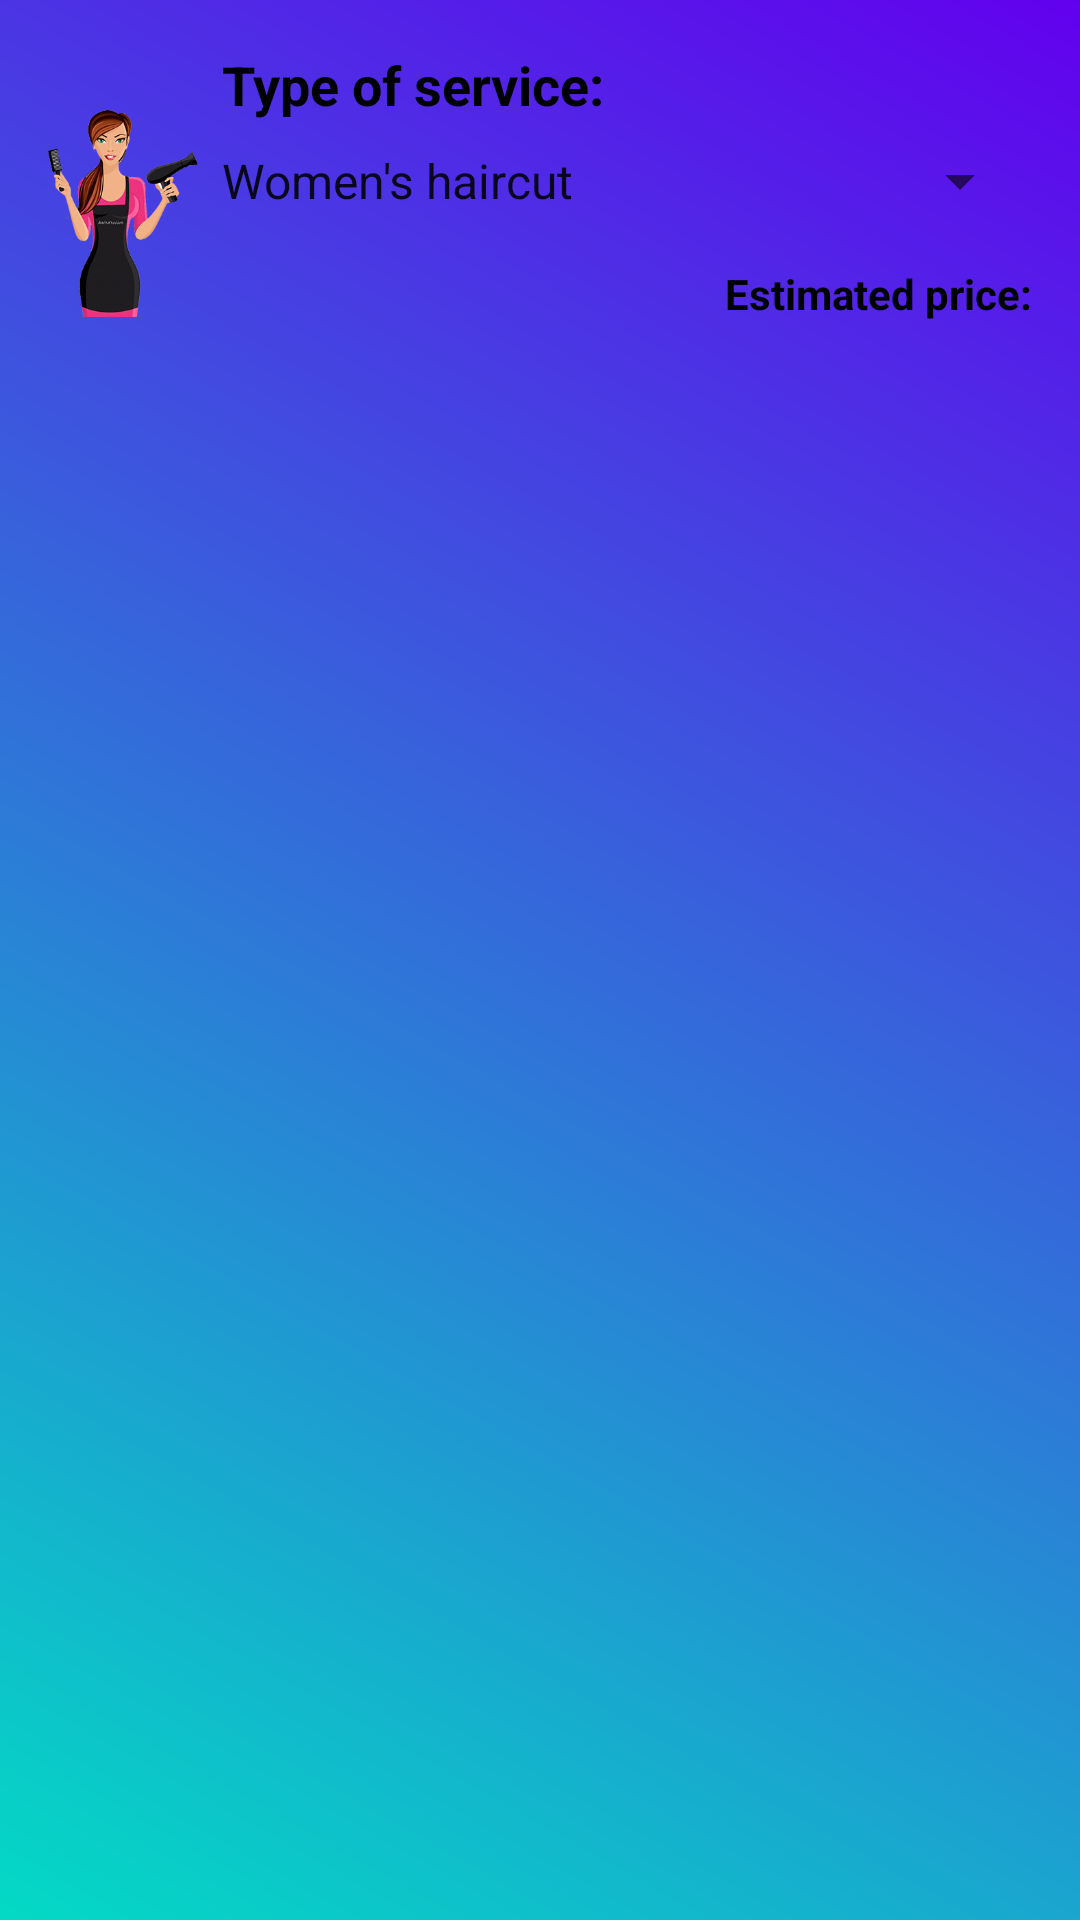

Icon click points for this 1080w x 1920h phone screenshot, format (x,y):
hairdresser: (123,244)
